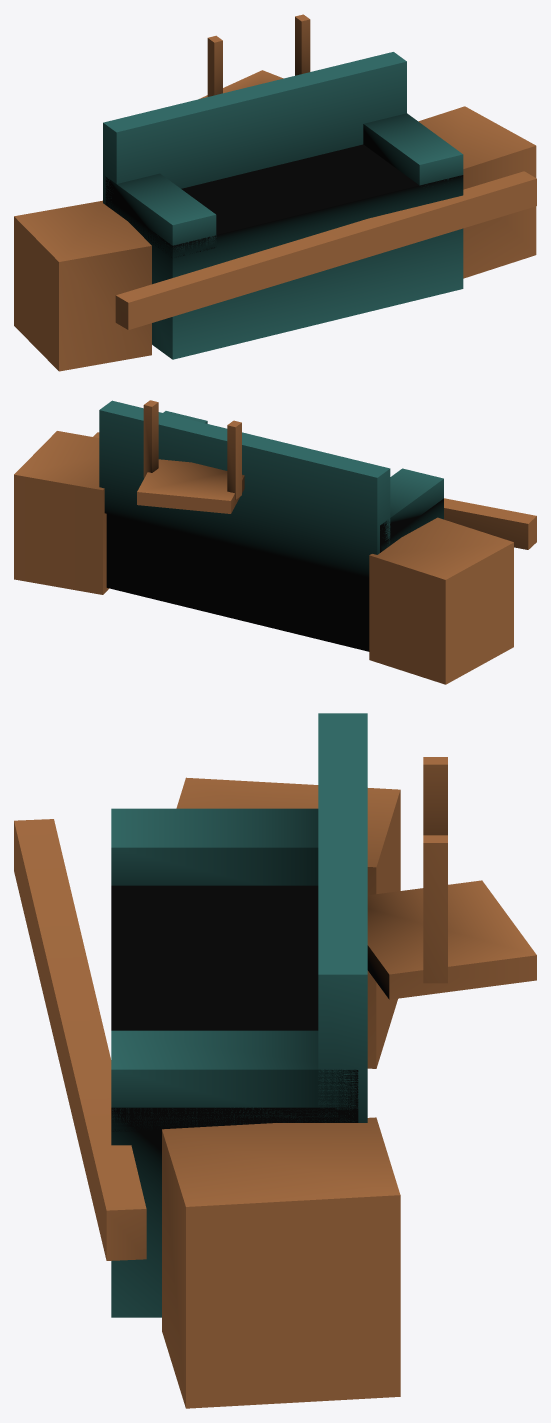
3 views of the same model, one above another, from view 1: azimuth 30°, elevation 25°; view 2: azimuth 150°, elevation 25°; view 3: azimuth 270°, elevation 25° (orthographic). The views are drawn at different scales.
Parts seen in each view (by area): view 1: body_pal_backpackTeal, body_pal_woodWarm; view 2: body_pal_backpackTeal, body_pal_woodWarm; view 3: body_pal_woodWarm, body_pal_backpackTeal.
Part boxes in pixels (x1,y1,x2,y2): body_pal_backpackTeal: [103, 52, 463, 359]; body_pal_woodWarm: [14, 14, 536, 371]; body_pal_backpackTeal: [99, 400, 443, 651]; body_pal_woodWarm: [14, 400, 536, 684]; body_pal_woodWarm: [14, 757, 536, 1408]; body_pal_backpackTeal: [111, 713, 367, 1317].
Bounding box in the file's own units: 3.29 × 1.5 × 1.69.
